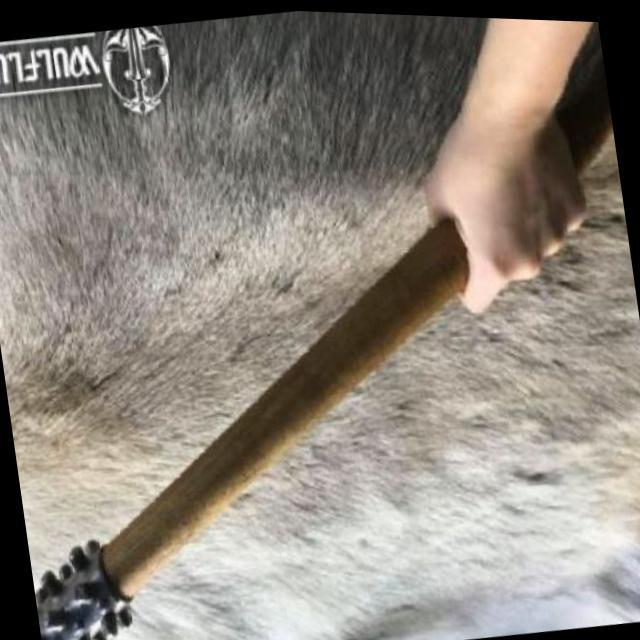weapon: (0, 167, 531, 640)
